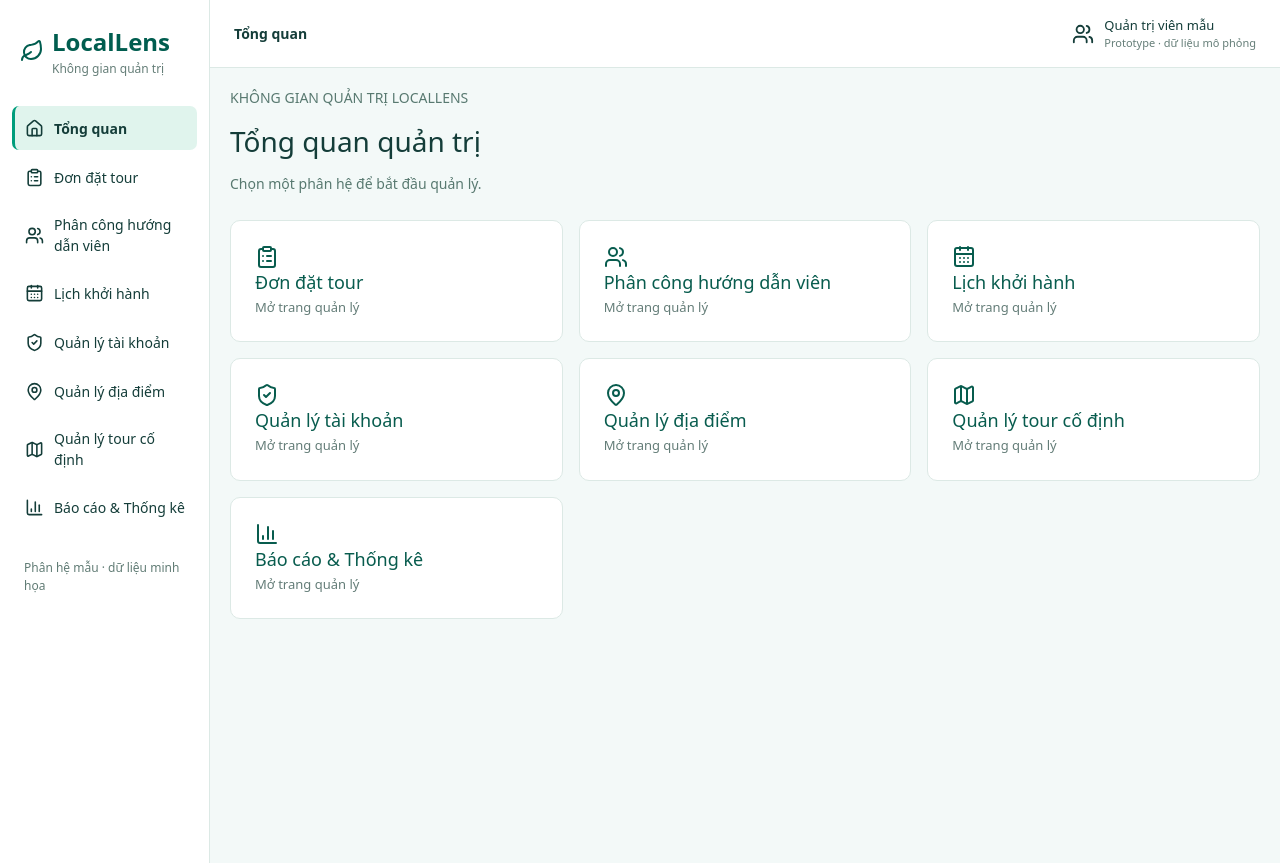
Test: navigates to departures without persistence banners or network writes
Click the button "Lịch khởi hành".
click(104, 293)  # box [12,271,197,315]
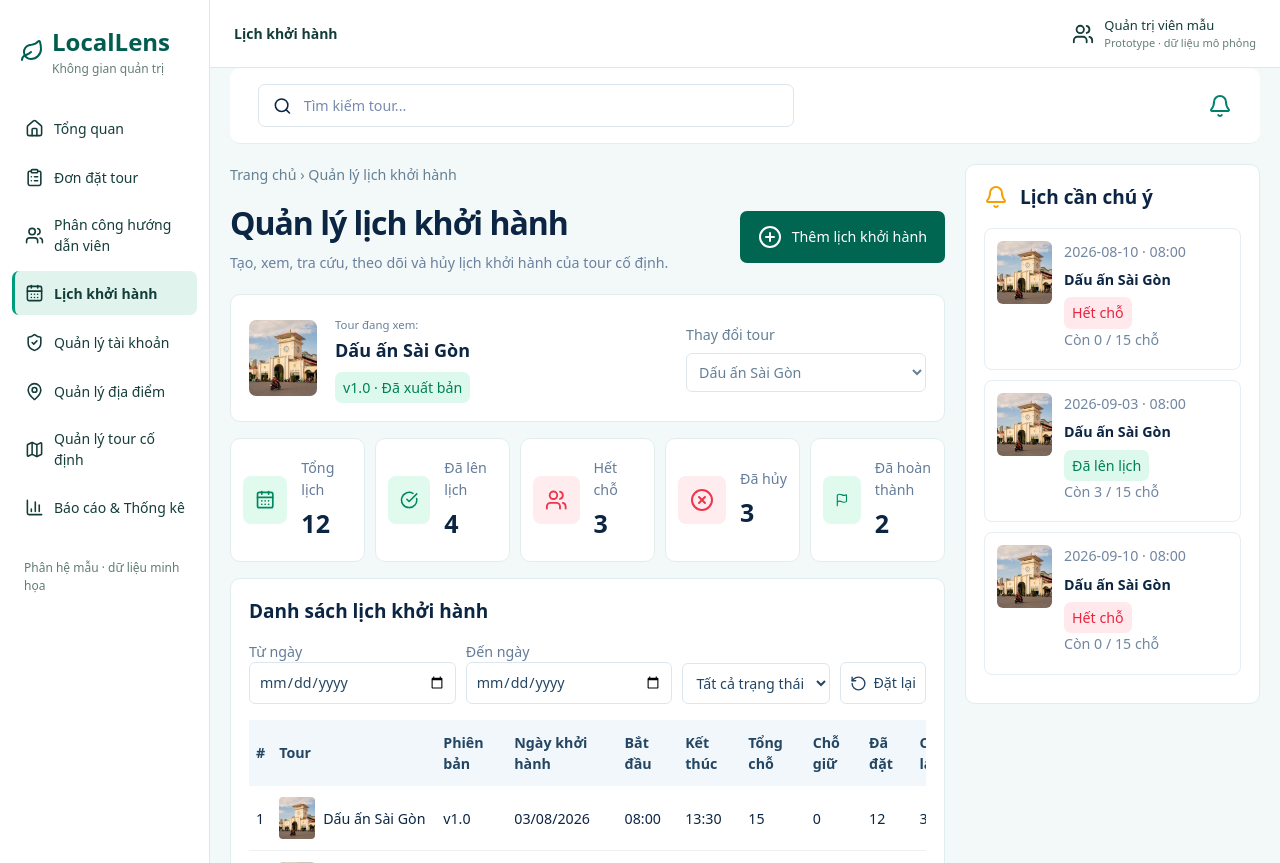
Expected: the heading "Quản lý lịch khởi hành" is shown, [230,201,568,244]
Expected: the button "Thêm lịch khởi hành" is enabled, [740,210,945,262]
